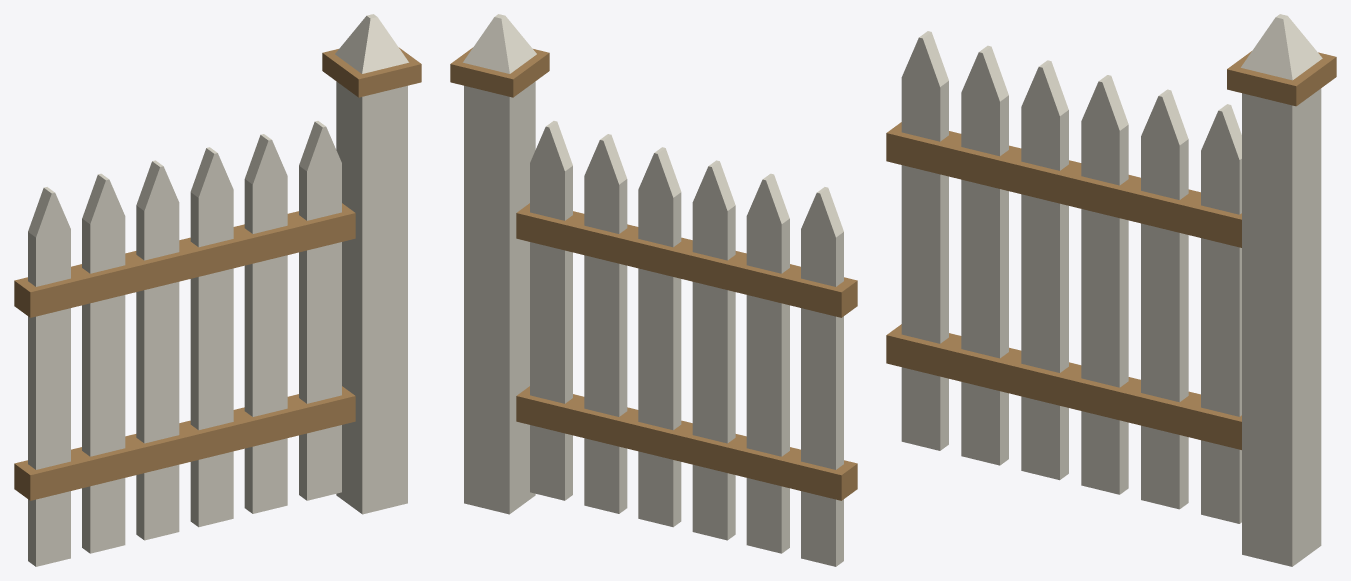
Rendered from picket_end.glb.
3 renders of one model, left to right at view 1: azimuth 30°, elevation 25°; view 2: azimuth 150°, elevation 25°; view 3: azimuth 330°, elevation 25°, orthographic. The views are drawn at different scales.
Parts seen in each view (by area): view 1: fence_picket_end; view 2: fence_picket_end; view 3: fence_picket_end.
Part boxes in pixels (x1,y1,x2,y2): fence_picket_end: (14, 14, 421, 566); fence_picket_end: (450, 14, 857, 566); fence_picket_end: (886, 14, 1336, 566).
Bounding box in the file's own units: 1.09 × 1.32 × 0.18.
